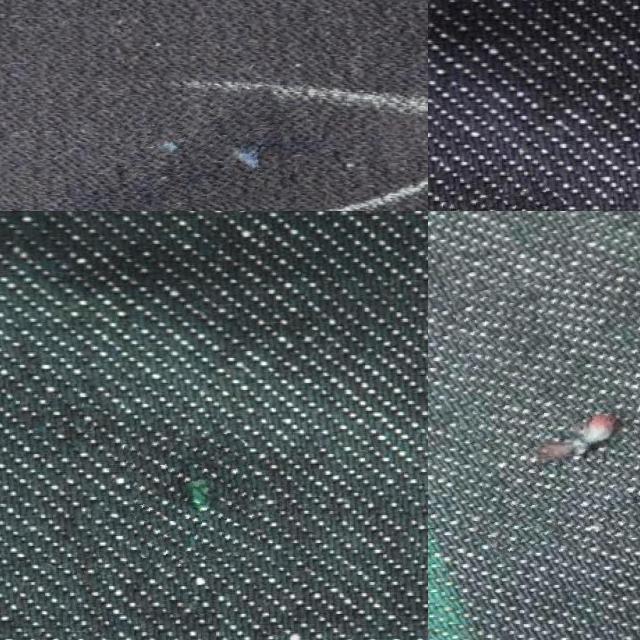stains: (462, 267, 640, 551), (122, 90, 286, 210), (128, 431, 258, 565)
